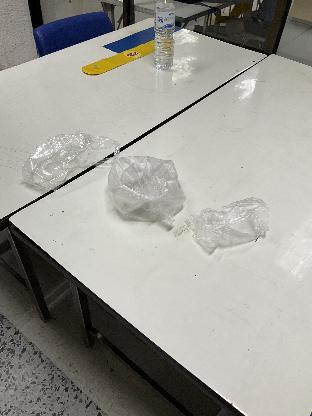Others: (12, 117, 121, 195), (102, 150, 194, 232), (173, 194, 275, 254)
